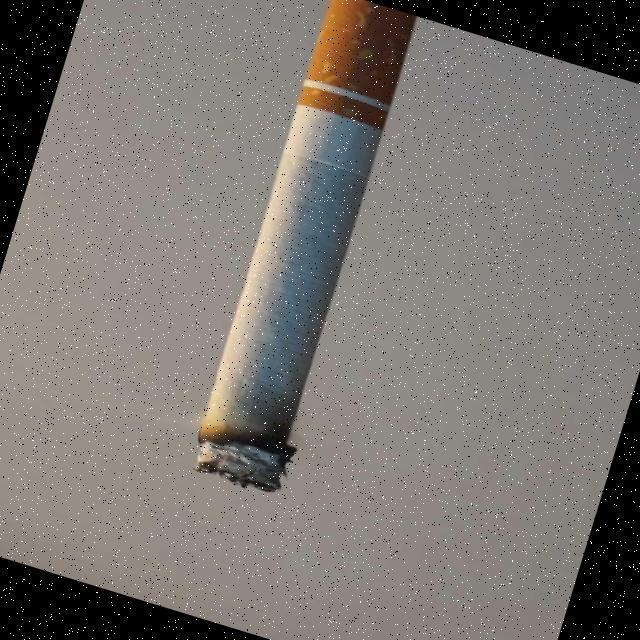cigarette: (176, 0, 422, 497)
